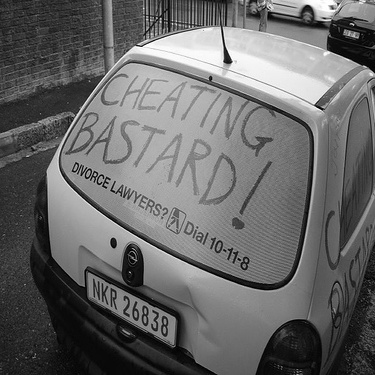car: (20, 35, 370, 347), (318, 1, 373, 41), (253, 6, 340, 23)
